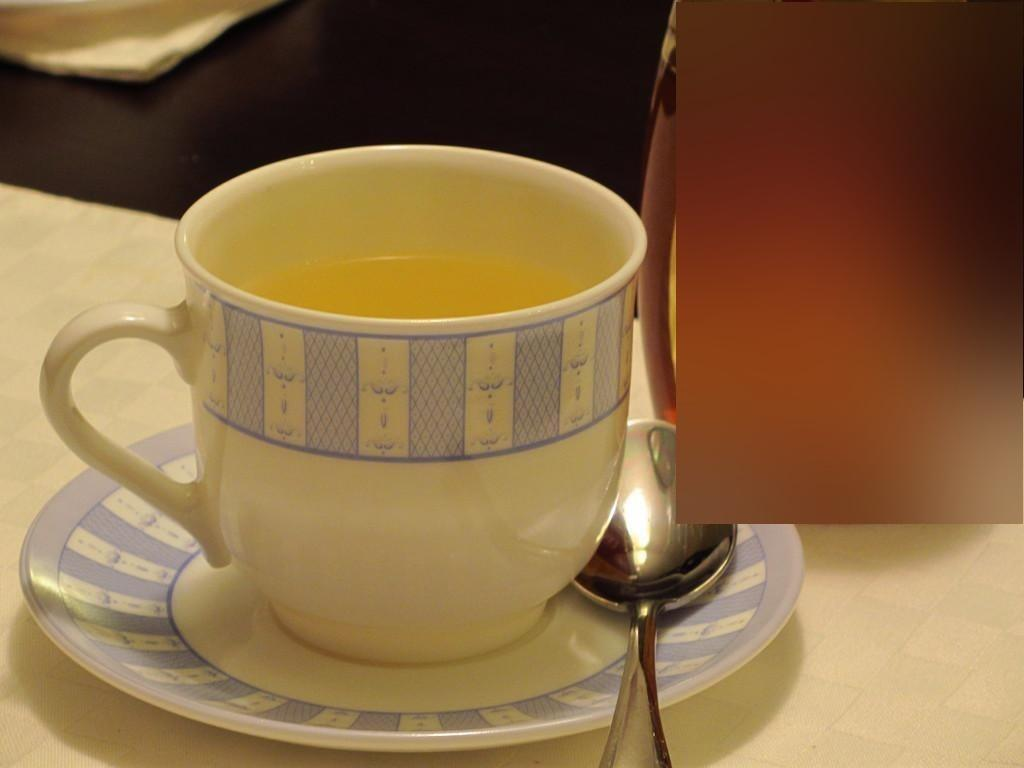cup-handle: (38, 140, 648, 664)
